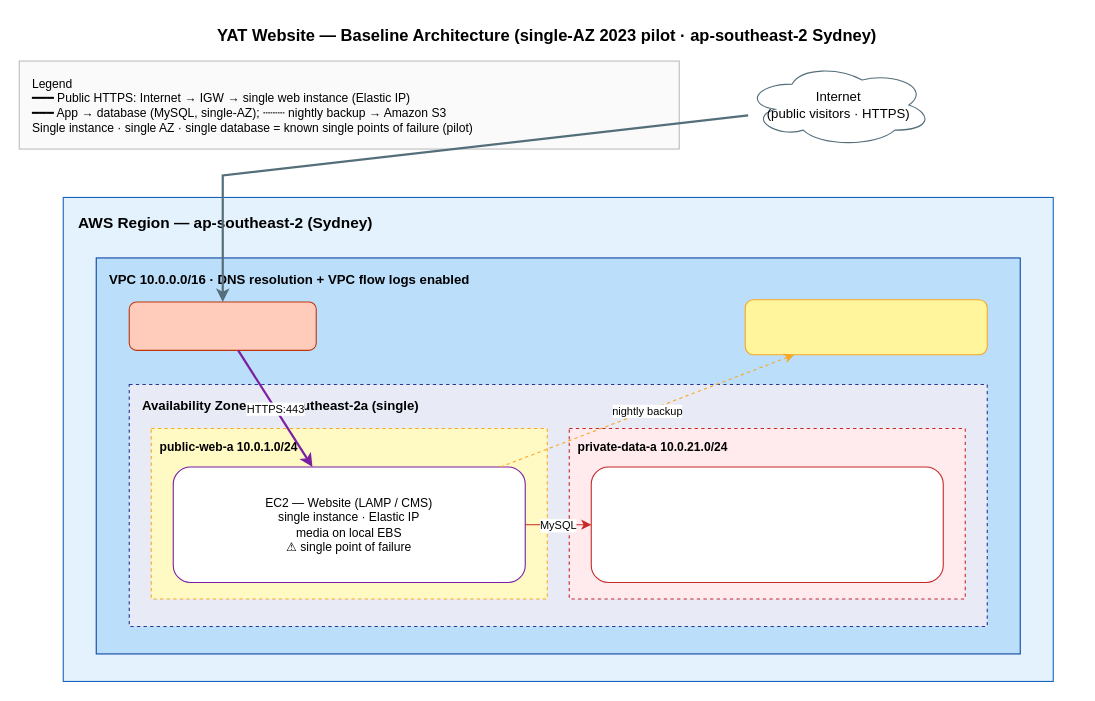
Some shapes in this 1095 by 701 pixel diagram are drawn without their labels. The centre of each missing label's shape, as x and y in pixels:
Amazon RDS for MySQL single-AZ ⚠ not HA no standby: point (766, 524)
Amazon S3 nightly backups (regional): point (865, 327)
Internet Gateway: point (222, 325)
